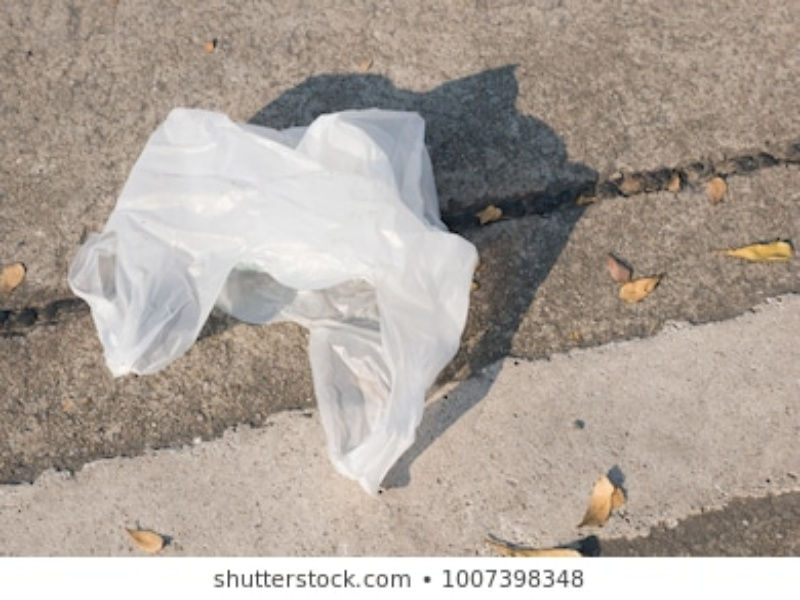plastic-bag: (64, 103, 481, 495)
